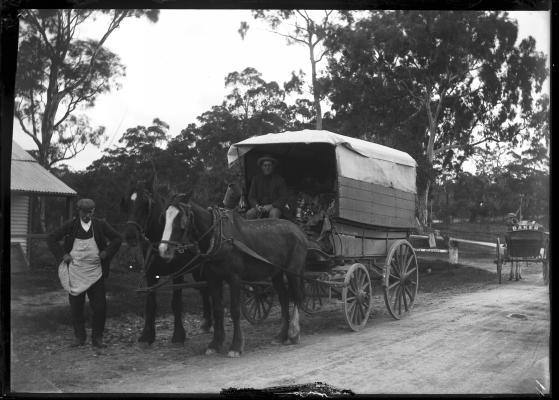horse: (157, 195, 308, 358), (121, 169, 230, 349)
